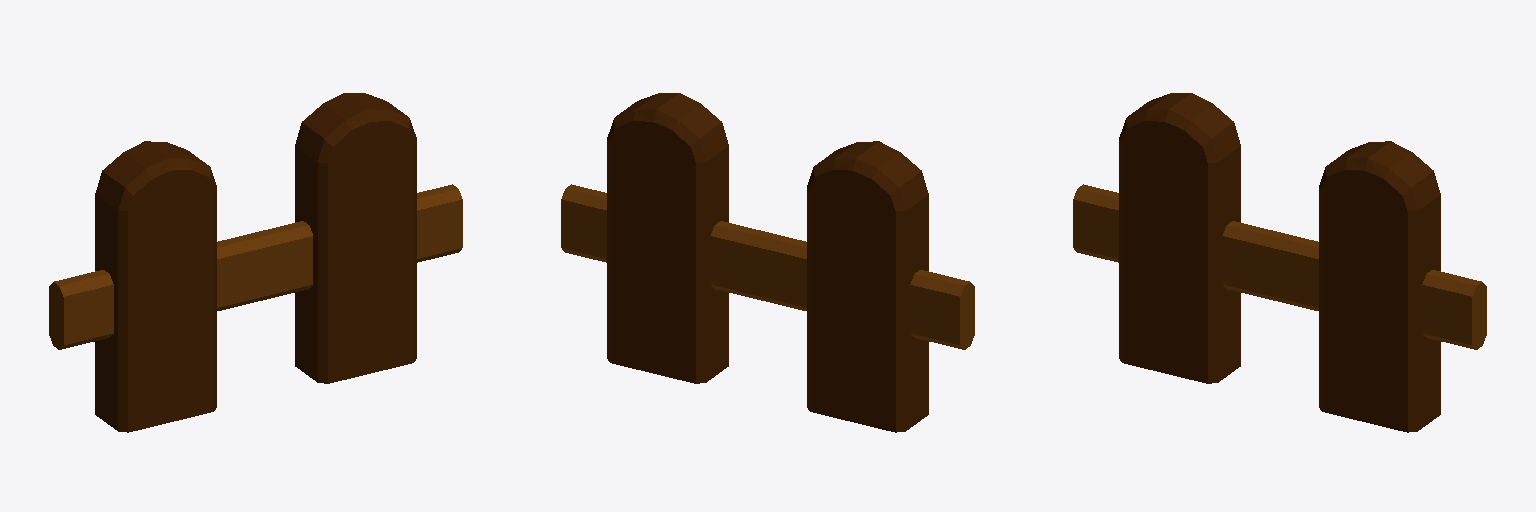
The model's file is Fence_Middle.obj.
The picture shows the model from 3 angles: view 1: azimuth 30°, elevation 25°; view 2: azimuth 150°, elevation 25°; view 3: azimuth 330°, elevation 25°; orthographic projection.
Visible parts, largest first — view 1: Fence_Middle_Cube.187; view 2: Fence_Middle_Cube.187; view 3: Fence_Middle_Cube.187.
Boxes of the visible parts, x1,y1,x2,y2 form: Fence_Middle_Cube.187: [49, 93, 462, 432]; Fence_Middle_Cube.187: [561, 93, 974, 432]; Fence_Middle_Cube.187: [1073, 93, 1486, 432].
Size of the model in its own units: 2 by 1.25 by 0.2644.